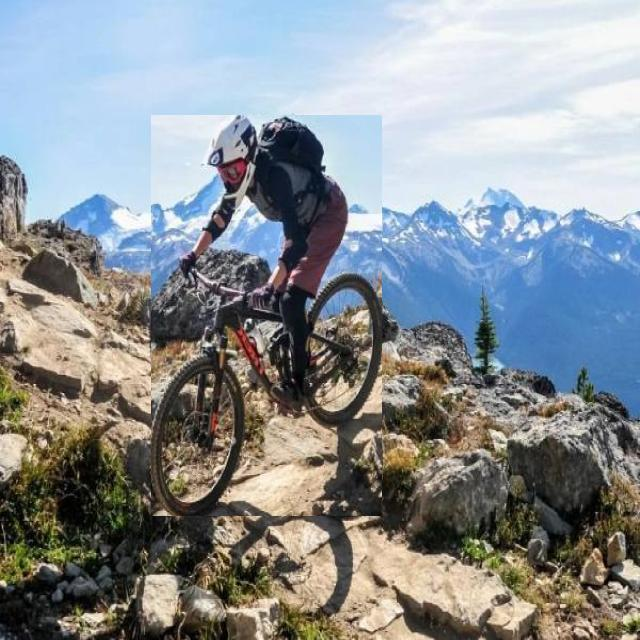bicycle: (151, 115, 382, 516)
